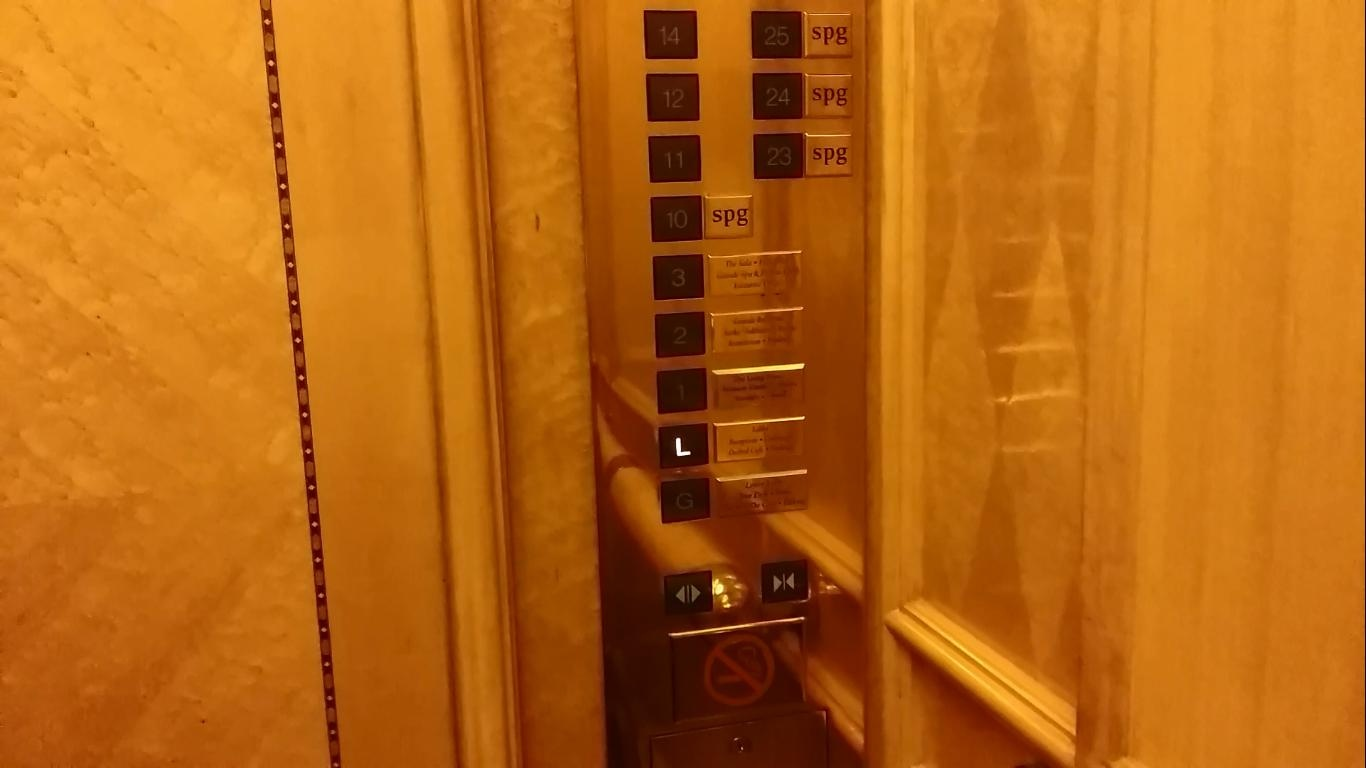1: (655, 364, 709, 415)
10: (647, 192, 704, 244)
11: (644, 131, 702, 184)
12: (642, 70, 702, 123)
14: (641, 6, 699, 62)
2: (651, 307, 706, 360)
23: (750, 131, 807, 180)
24: (749, 68, 806, 122)
25: (748, 8, 805, 60)
3: (650, 250, 705, 302)
G: (656, 474, 710, 524)
L: (655, 418, 709, 470)
close: (758, 555, 810, 606)
open: (660, 567, 714, 617)
